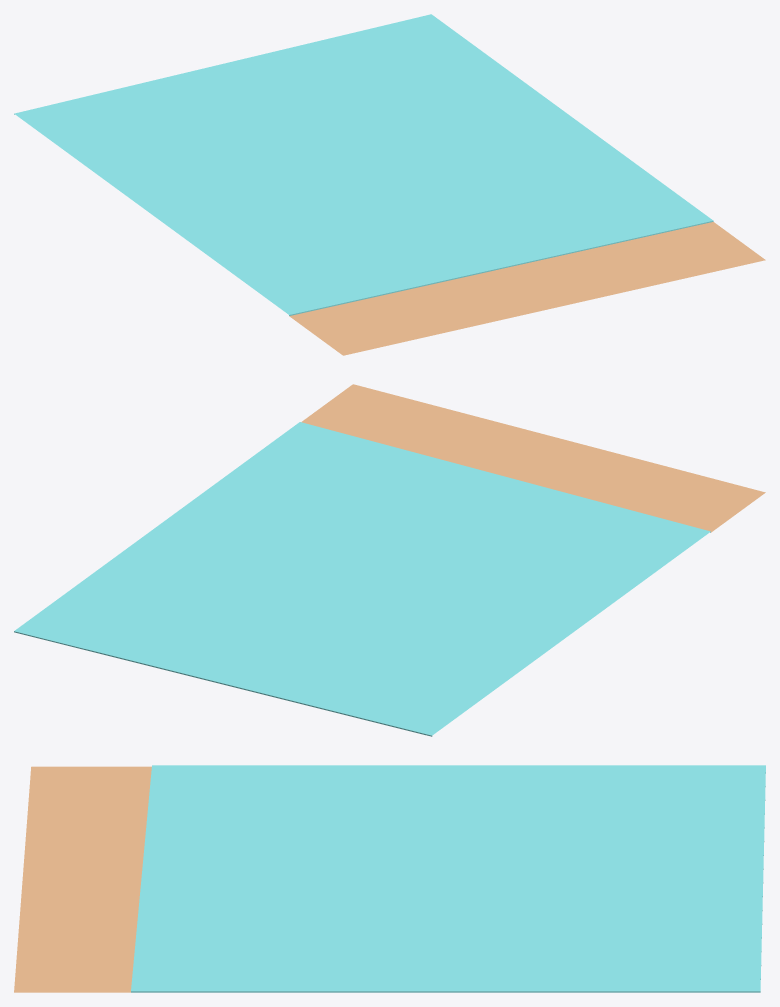
The model's file is sol6.FBX.
The picture shows the model from 3 angles, top to bottom: view 1: azimuth 30°, elevation 25°; view 2: azimuth 150°, elevation 25°; view 3: azimuth 270°, elevation 25°; orthographic projection. The views are drawn at different scales.
Parts seen in each view (by area): view 1: Object001; view 2: Object001; view 3: Object001.
Boxes of the visible parts, <box> form: Object001: <box>14,14,765,355</box>; Object001: <box>14,384,765,736</box>; Object001: <box>14,765,765,992</box>.
Size of the model in its own units: 179 by 0.4686 by 252.
